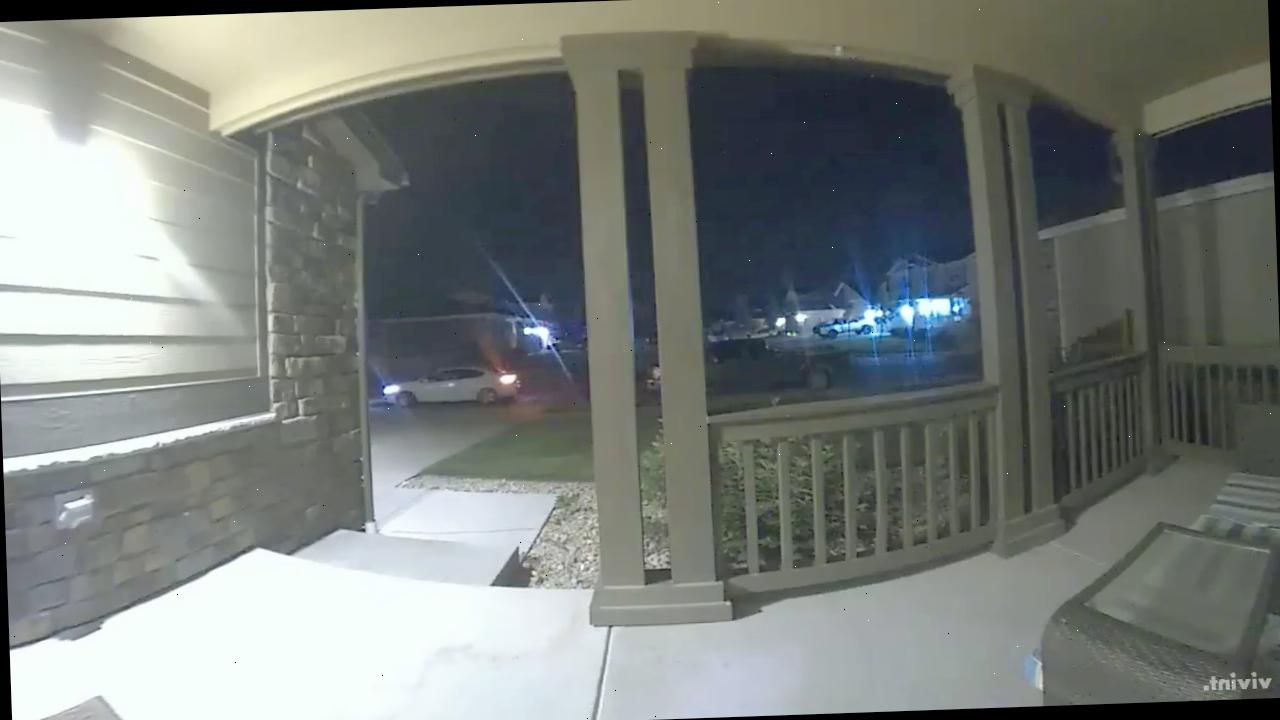suspicion: (615, 326, 861, 398), (359, 334, 532, 418), (814, 298, 874, 350)
